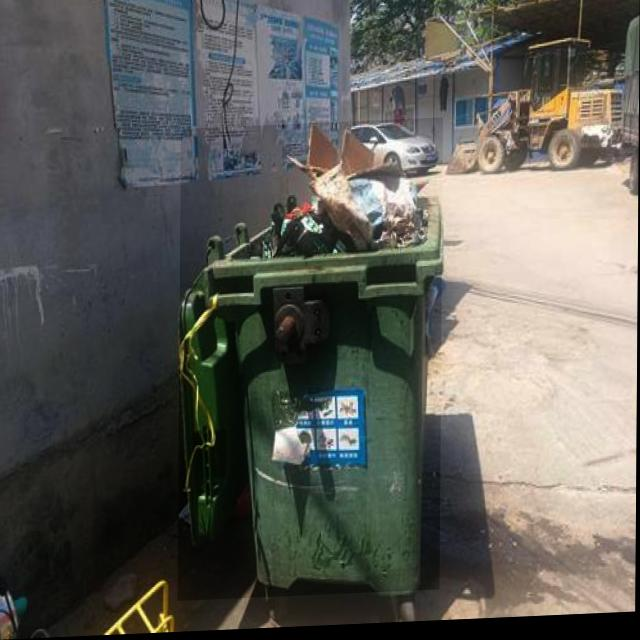overflow: (178, 121, 443, 603)
